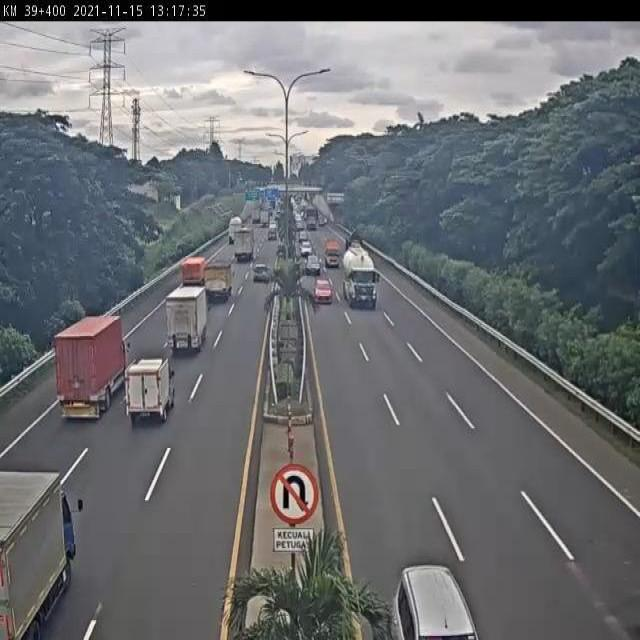car: (314, 277, 332, 300), (252, 263, 270, 285)
truck-l-: (343, 252, 379, 309)
truck-m-: (0, 468, 77, 640), (57, 313, 128, 420), (163, 284, 211, 357), (205, 261, 233, 303), (178, 253, 209, 288)
truck-s-: (124, 354, 174, 426)
